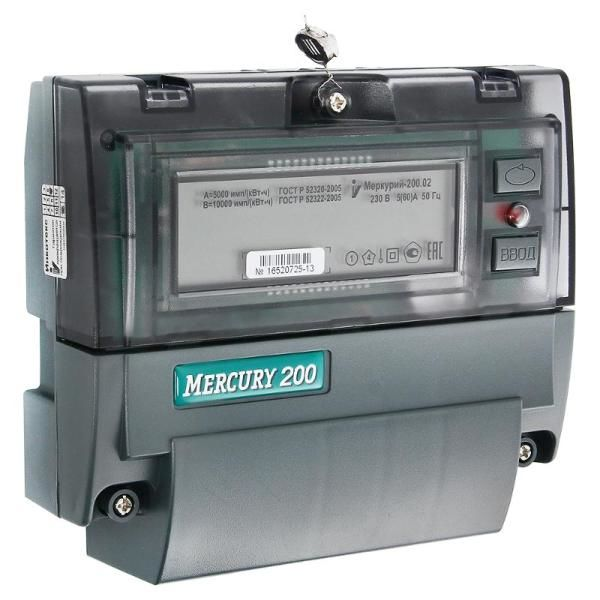counter: (77, 49, 579, 532)
counter_screen: (171, 155, 468, 297)
